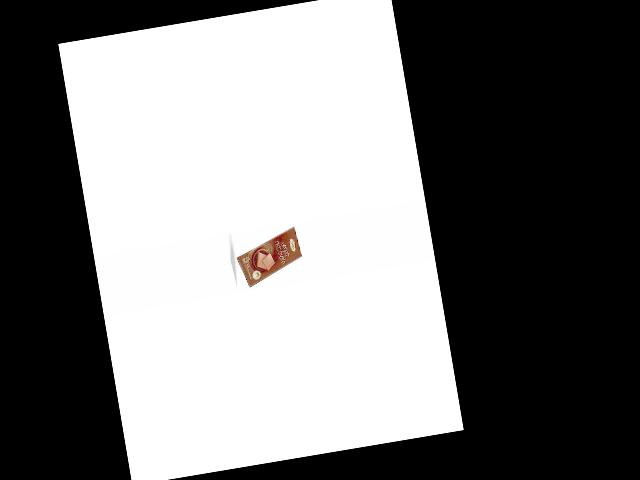chocolate: (230, 225, 306, 291)
